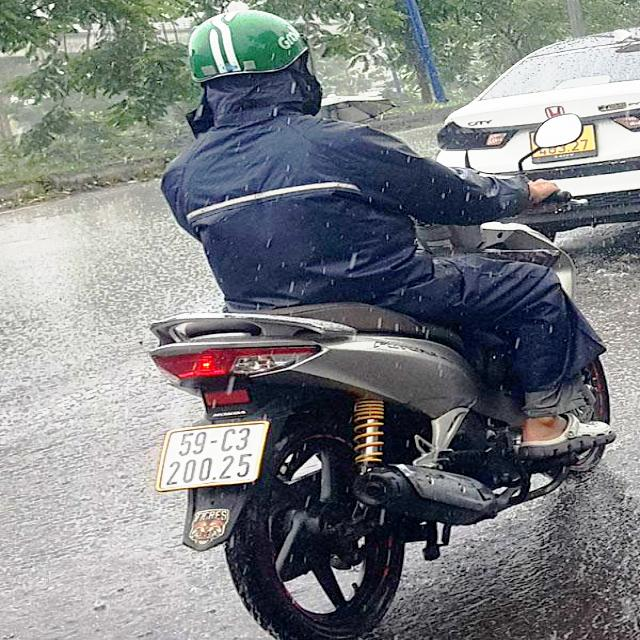license_plate: (157, 424, 266, 494)
